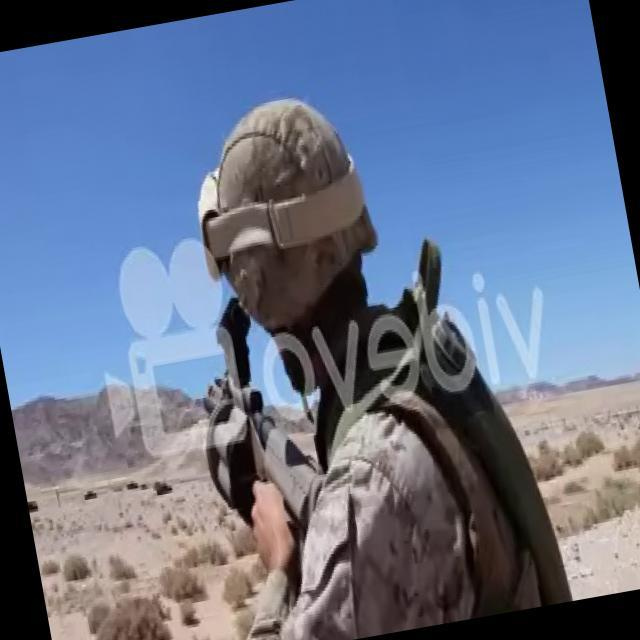rocket: (178, 294, 324, 538)
